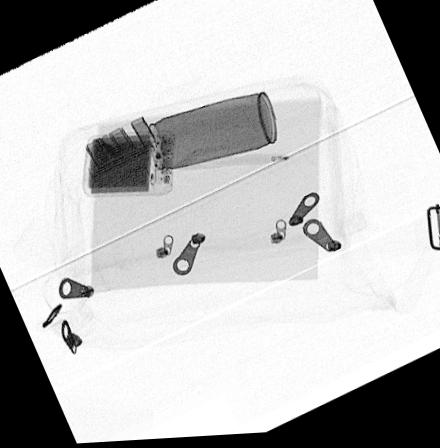Powerbank: (81, 132, 176, 199)
